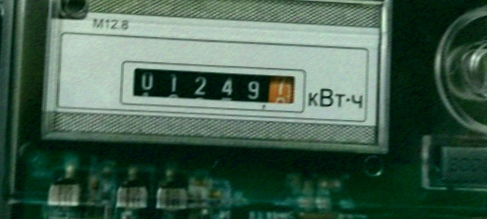0: (139, 72, 154, 92)
1: (166, 73, 179, 95)
2: (190, 75, 208, 98)
4: (219, 77, 234, 97)
7: (274, 77, 288, 97)
9: (245, 80, 259, 102)
screen: (116, 58, 309, 117)
